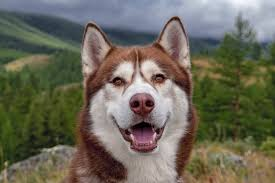Bulldog: (34, 16, 237, 182)
